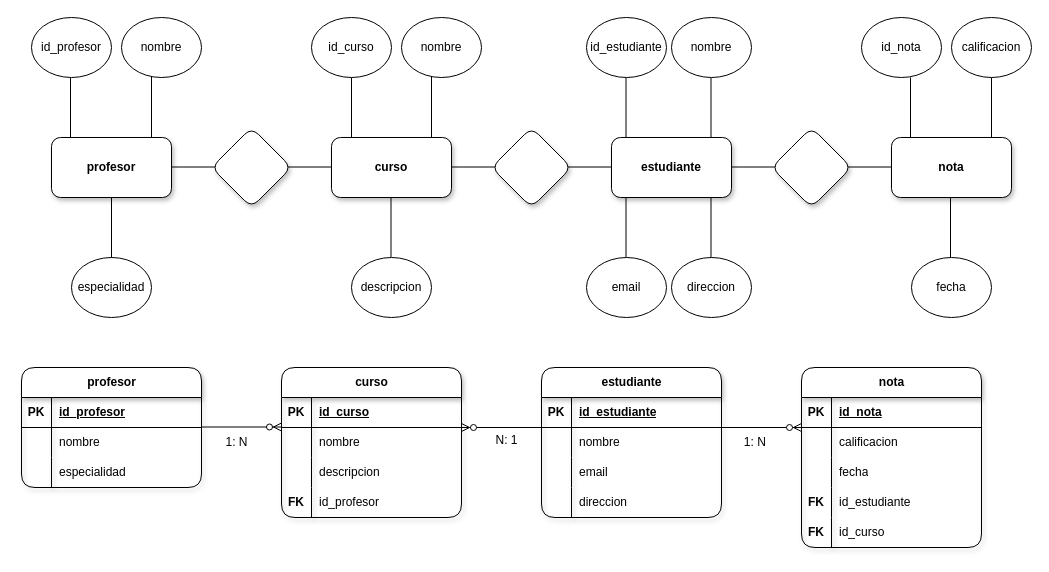
Image size: 1049x572. Some labels were removed from this diagram. The centre of each missing label's shape, as x and y in pixels:
"imparte" goes at point (252, 168).
"registra" goes at point (812, 168).
"se matricula" goes at point (532, 168).
